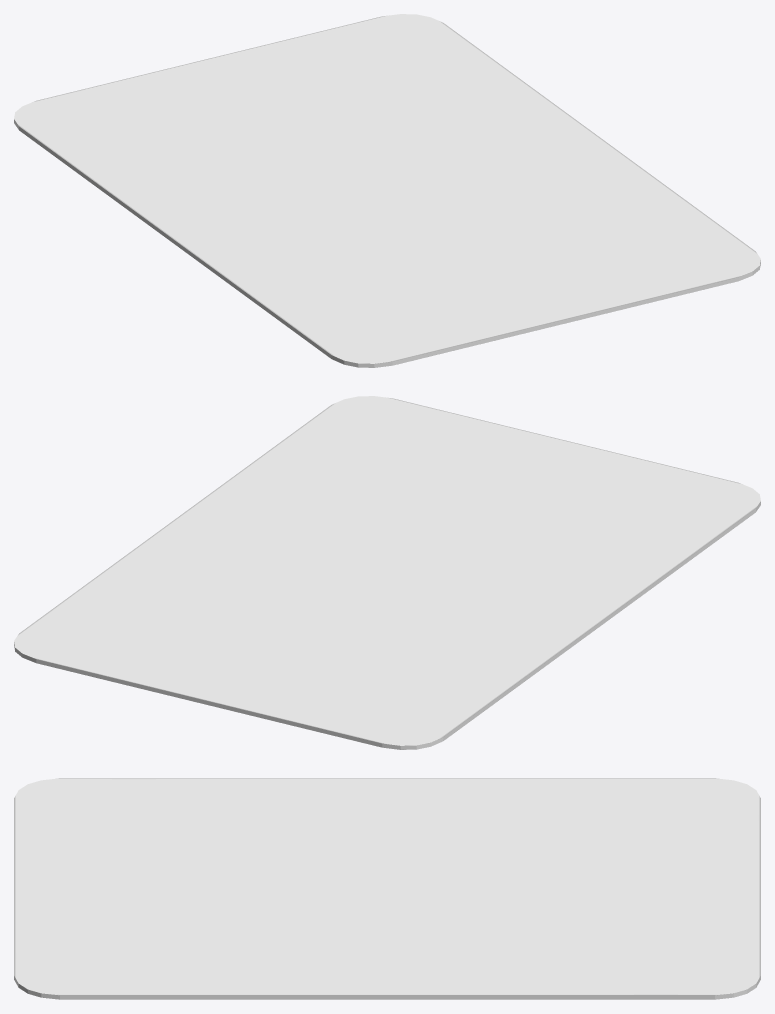
File: card.obj
3 views of the same model, one above another, from view 1: azimuth 30°, elevation 25°; view 2: azimuth 150°, elevation 25°; view 3: azimuth 270°, elevation 25° (orthographic). The views are drawn at different scales.
Visible parts, largest first — view 1: cuboid; view 2: cuboid; view 3: cuboid.
Boxes of the visible parts, x1,y1,x2,y2 form: cuboid: [14, 14, 760, 367]; cuboid: [14, 396, 760, 749]; cuboid: [14, 778, 760, 999].
Bounding box in the file's own units: 0.6875 × 0.00625 × 1.
1 material, 1 textured.
